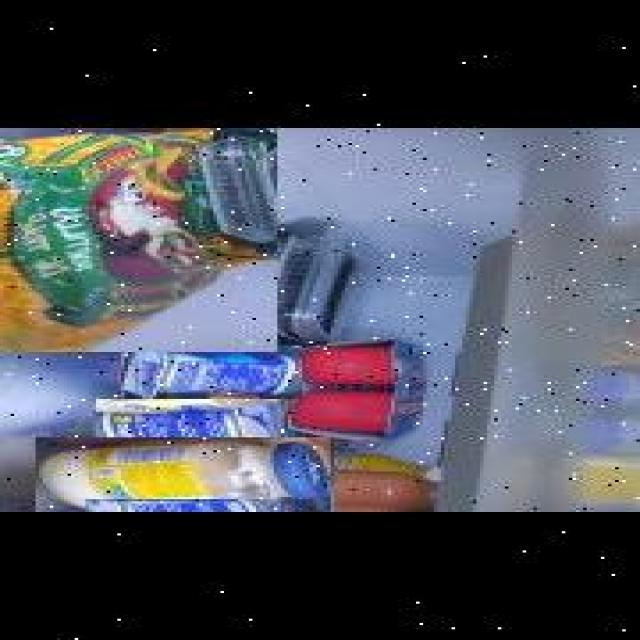humus: (0, 179, 89, 303)
mayonaise: (30, 437, 329, 512)
milk: (0, 371, 71, 435)
tortillas: (0, 128, 274, 352)
yogurt: (117, 346, 299, 401), (92, 400, 278, 451)
